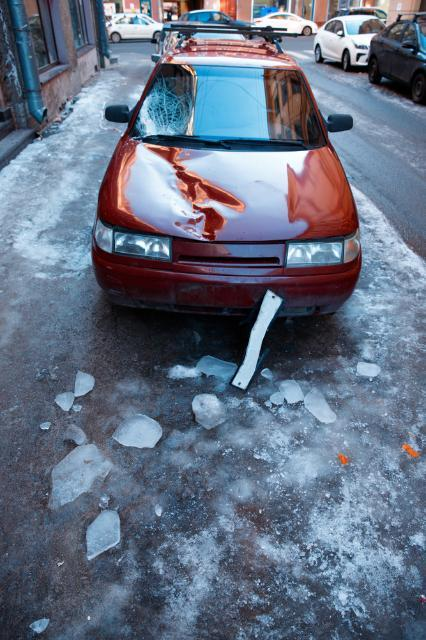dent: (123, 143, 249, 240)
glass shatter: (130, 64, 328, 141)
